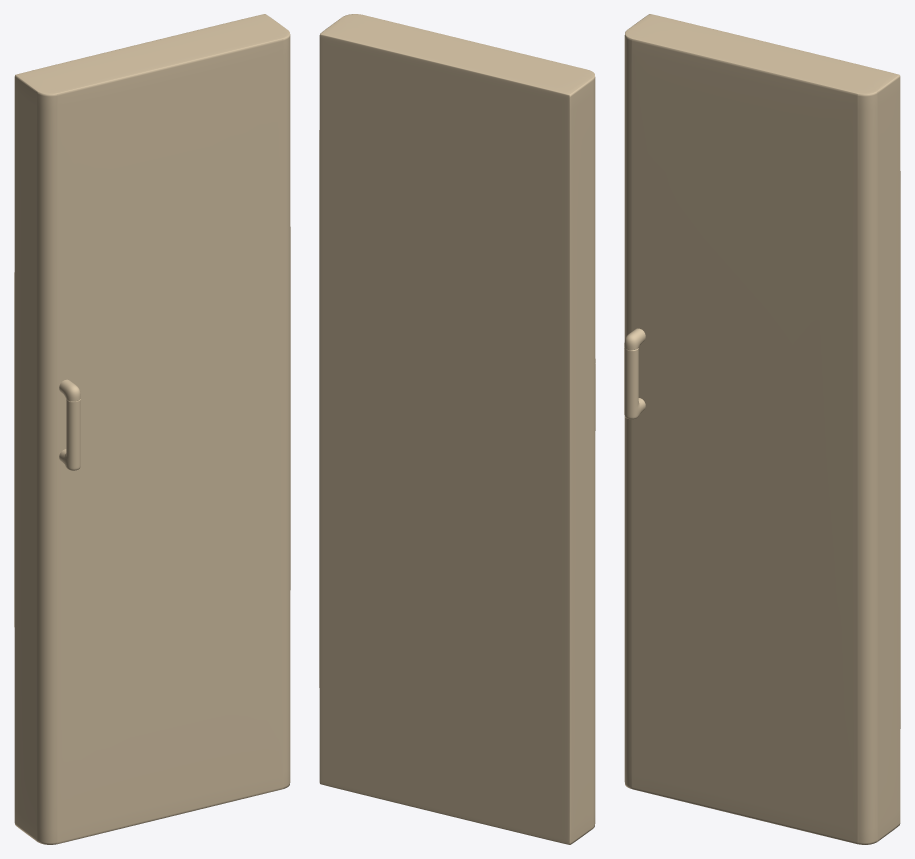
Rendered from fridge_door.gltf.
3 renders of one model, left to right at view 1: azimuth 30°, elevation 25°; view 2: azimuth 150°, elevation 25°; view 3: azimuth 330°, elevation 25°, orthographic.
Parts seen in each view (by area): view 1: FridgeDoor; view 2: FridgeDoor; view 3: FridgeDoor.
Boxes of the visible parts, x1=… form: FridgeDoor: x1=14, y1=14, x2=290, y2=844; FridgeDoor: x1=319, y1=14, x2=595, y2=844; FridgeDoor: x1=624, y1=14, x2=900, y2=844.
Bounding box in the file's own units: 2.28 × 6.5 × 0.6638.
Materials: 1 (1 with a texture image).
